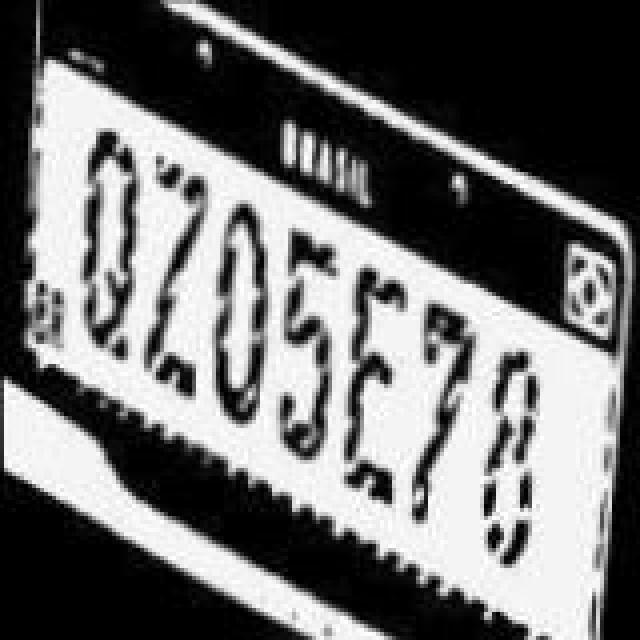5: (272, 222, 340, 470)
7: (402, 284, 474, 536)
8: (474, 342, 538, 570)
E: (334, 252, 402, 508)
O: (206, 192, 270, 432)
Q: (76, 120, 140, 360)
Z: (138, 146, 206, 402)
